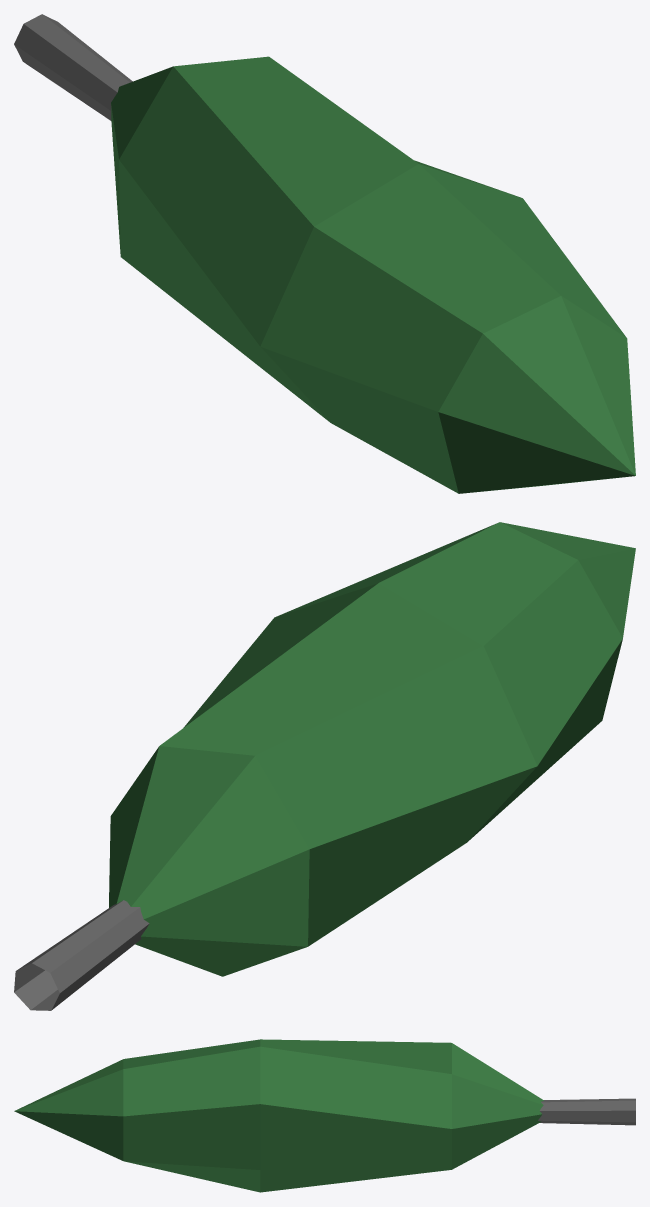
Rendered from growth_2.glb.
3 views of the same model, one above another, from view 1: azimuth 30°, elevation 25°; view 2: azimuth 150°, elevation 25°; view 3: azimuth 270°, elevation 25° (orthographic). The views are drawn at different scales.
Parts seen in each view (by area): view 1: tree_10_growth_2; view 2: tree_10_growth_2; view 3: tree_10_growth_2.
Part boxes in pixels (x1,y1,x2,y2): tree_10_growth_2: (14, 14, 635, 493); tree_10_growth_2: (14, 522, 635, 1010); tree_10_growth_2: (14, 1039, 635, 1192).
Bounding box in the file's own units: 8.37 × 8.21 × 32.86.
